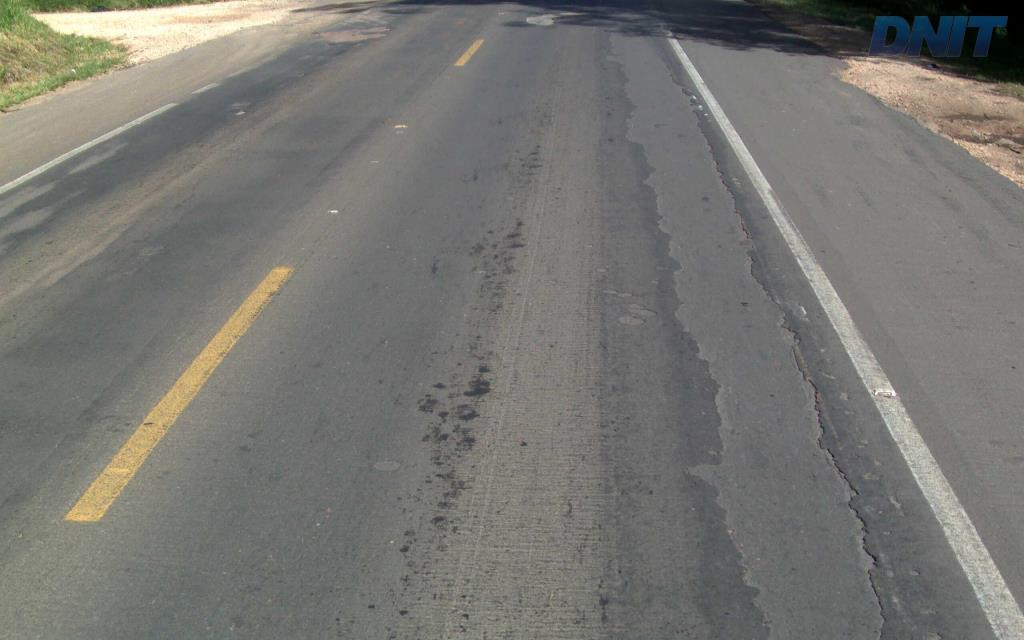pothole: (599, 14, 895, 638), (522, 4, 589, 32)
